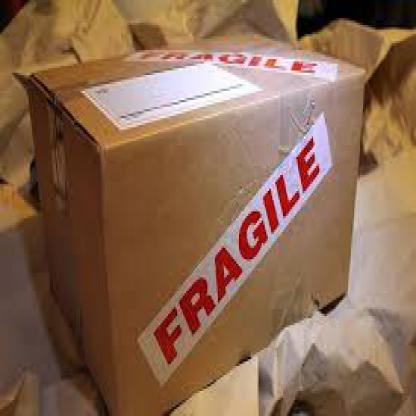paquete: (12, 43, 380, 414)
